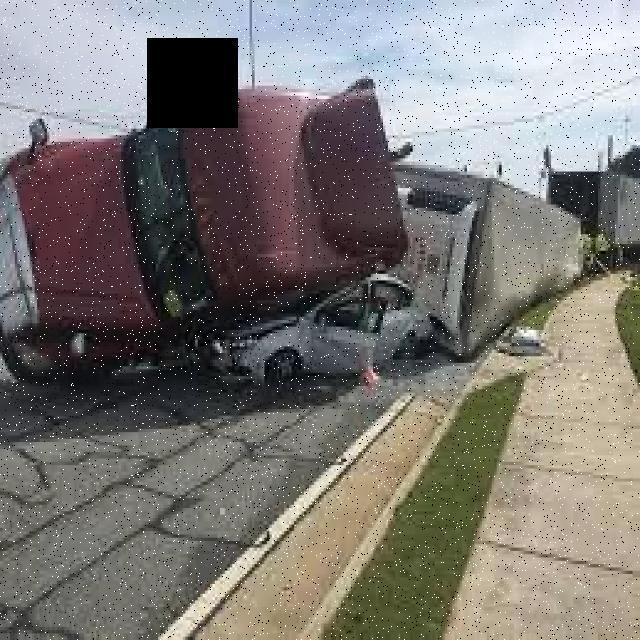multiple_accident: (22, 67, 598, 423)
